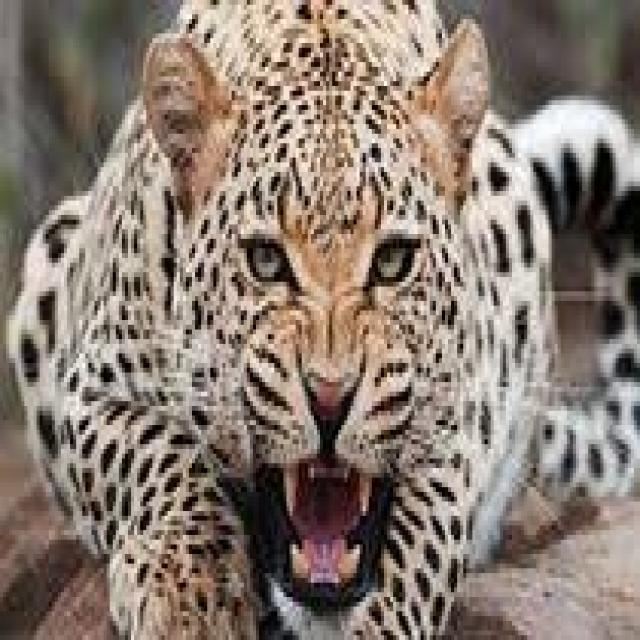Jaguar: (18, 5, 628, 630)
